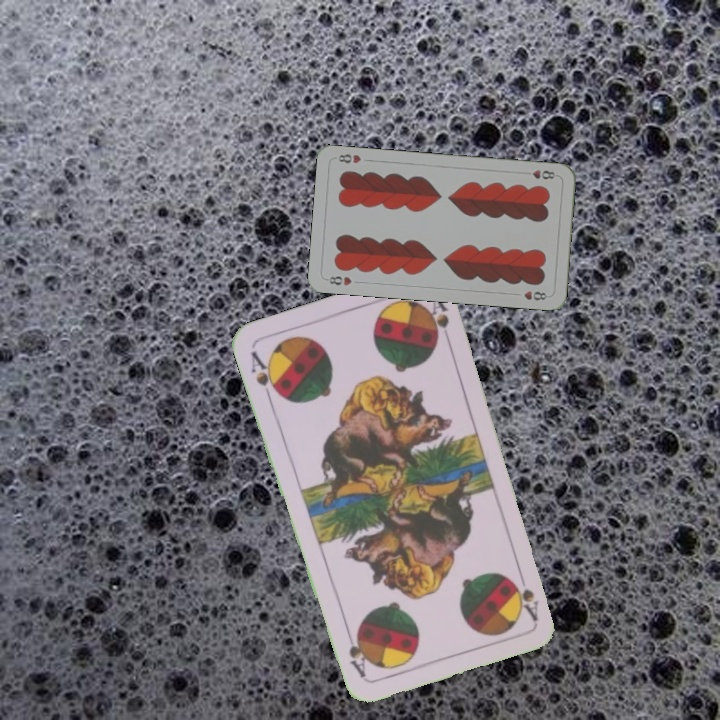H8: (528, 166, 560, 182), (322, 272, 354, 288)
SA: (247, 347, 283, 404), (510, 565, 541, 623)
